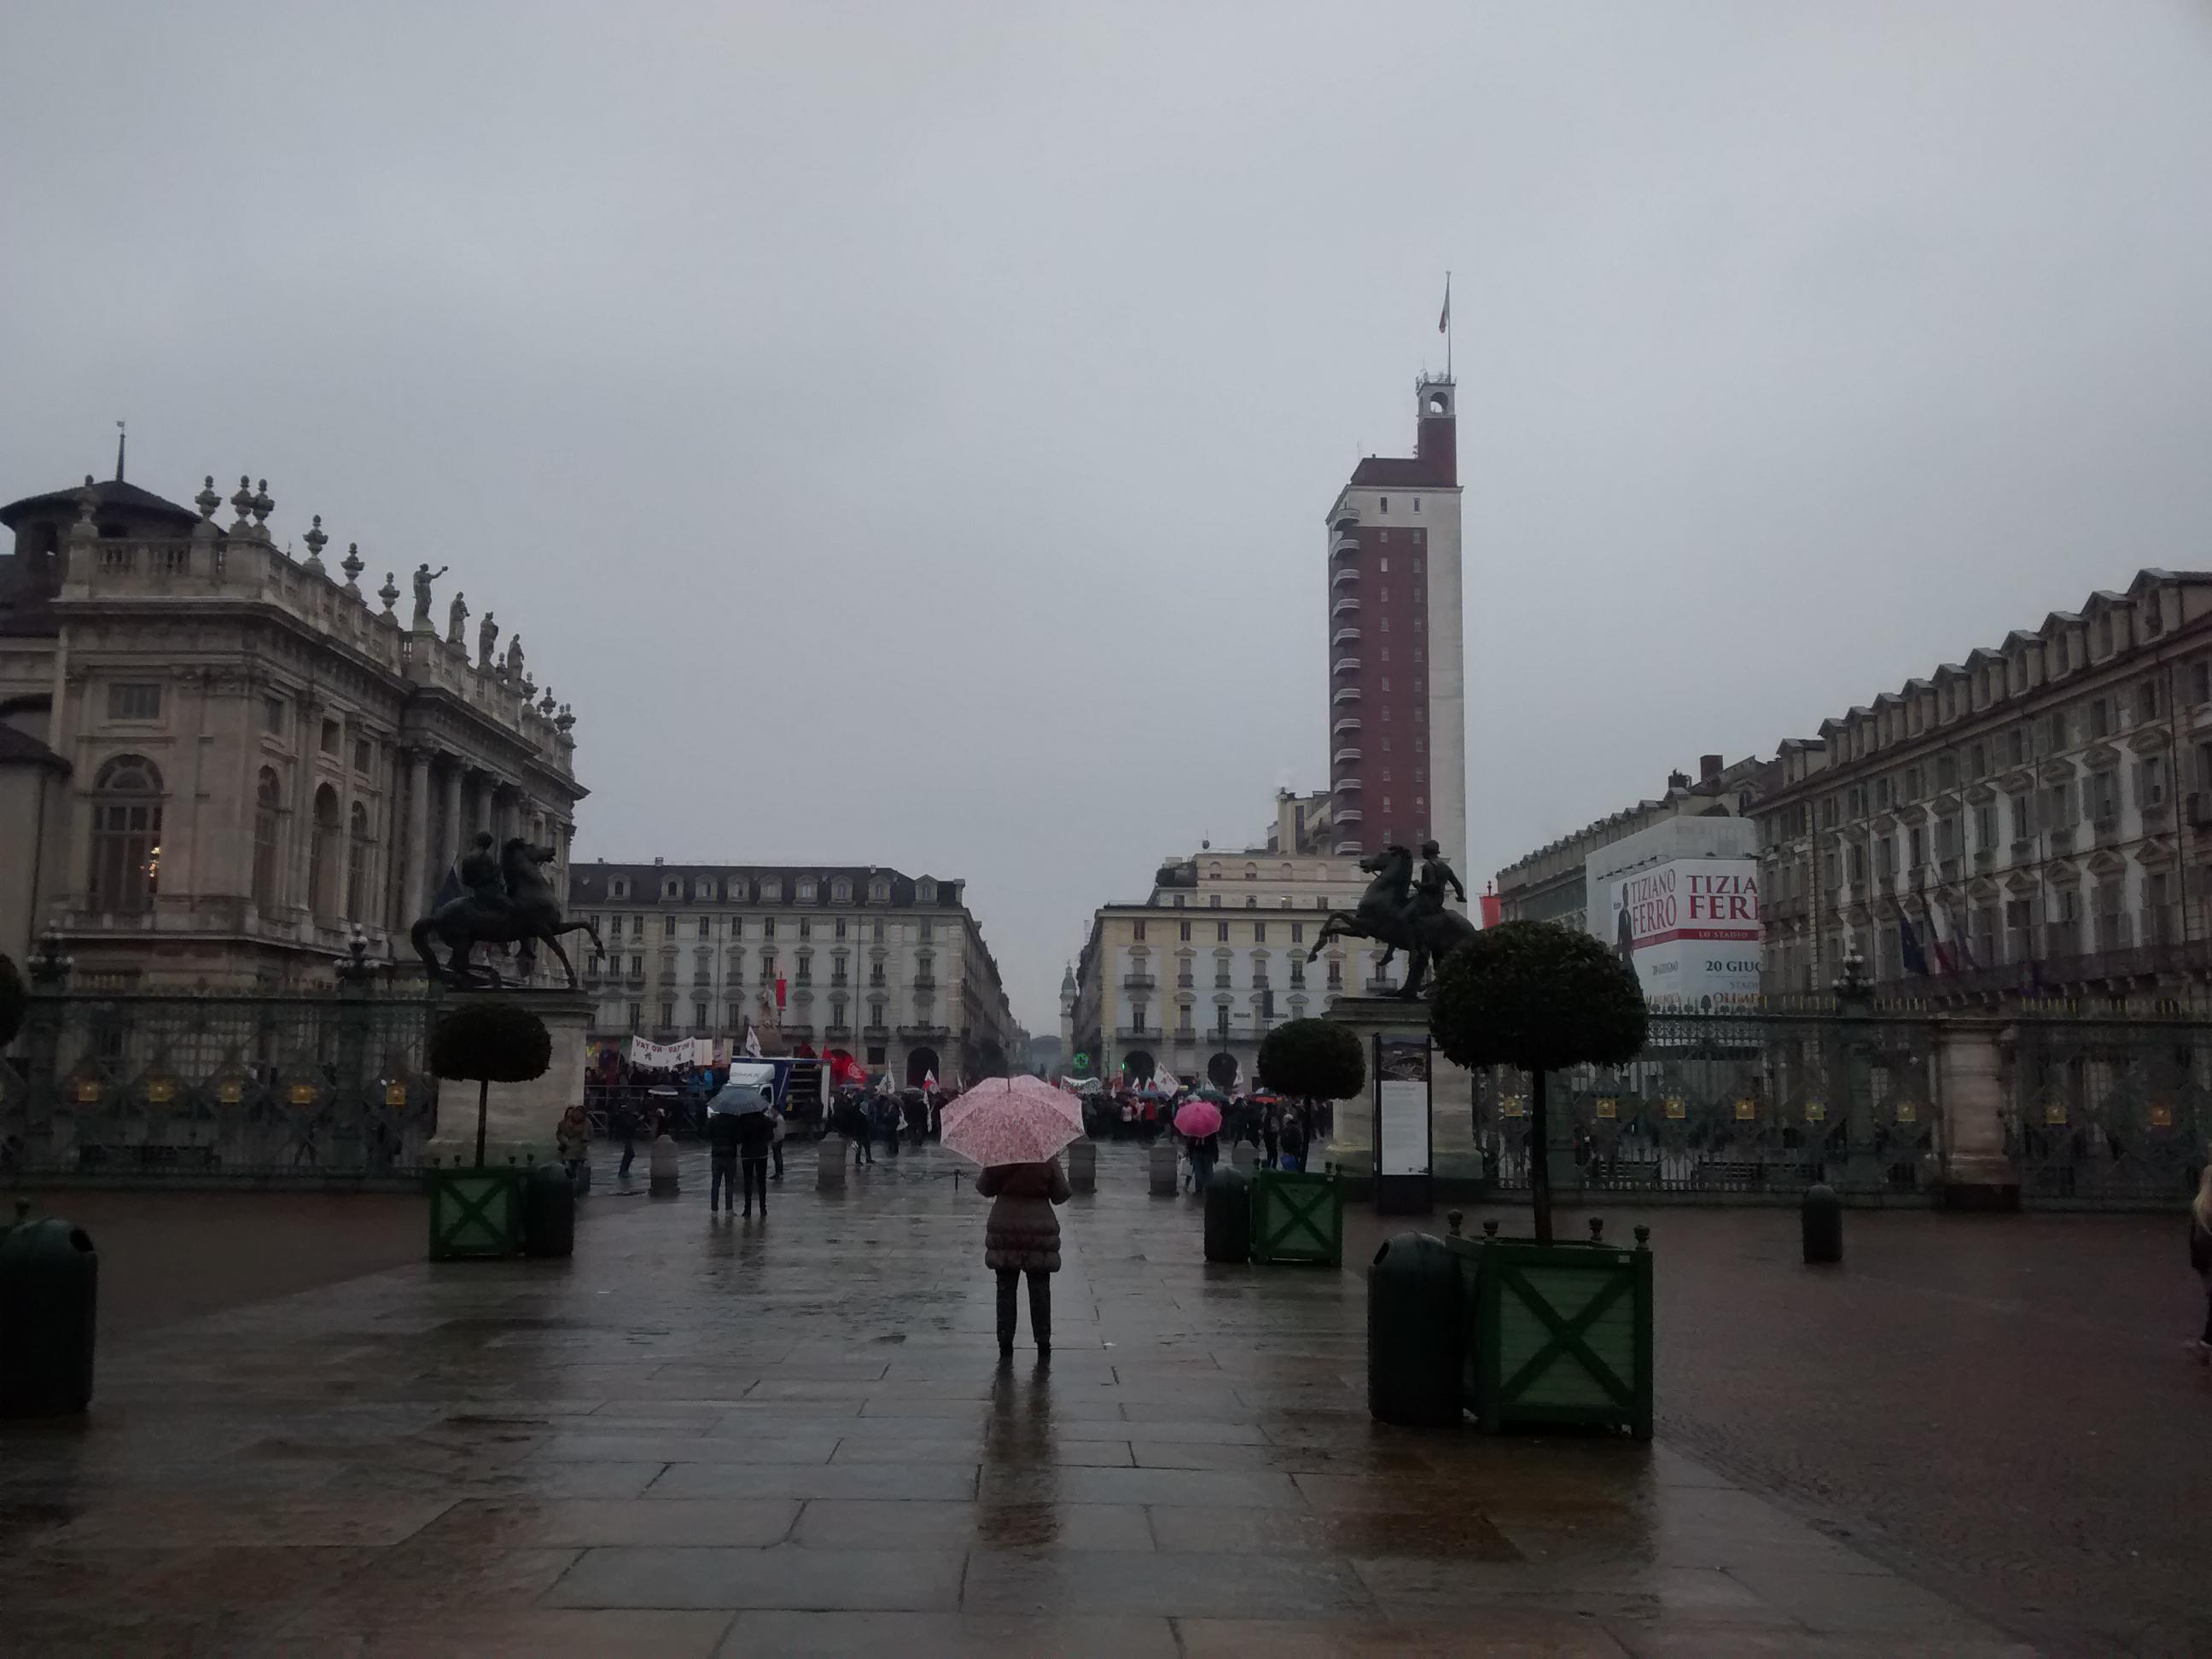vinyl banner: (1613, 857, 1778, 990), (625, 1018, 712, 1070)
